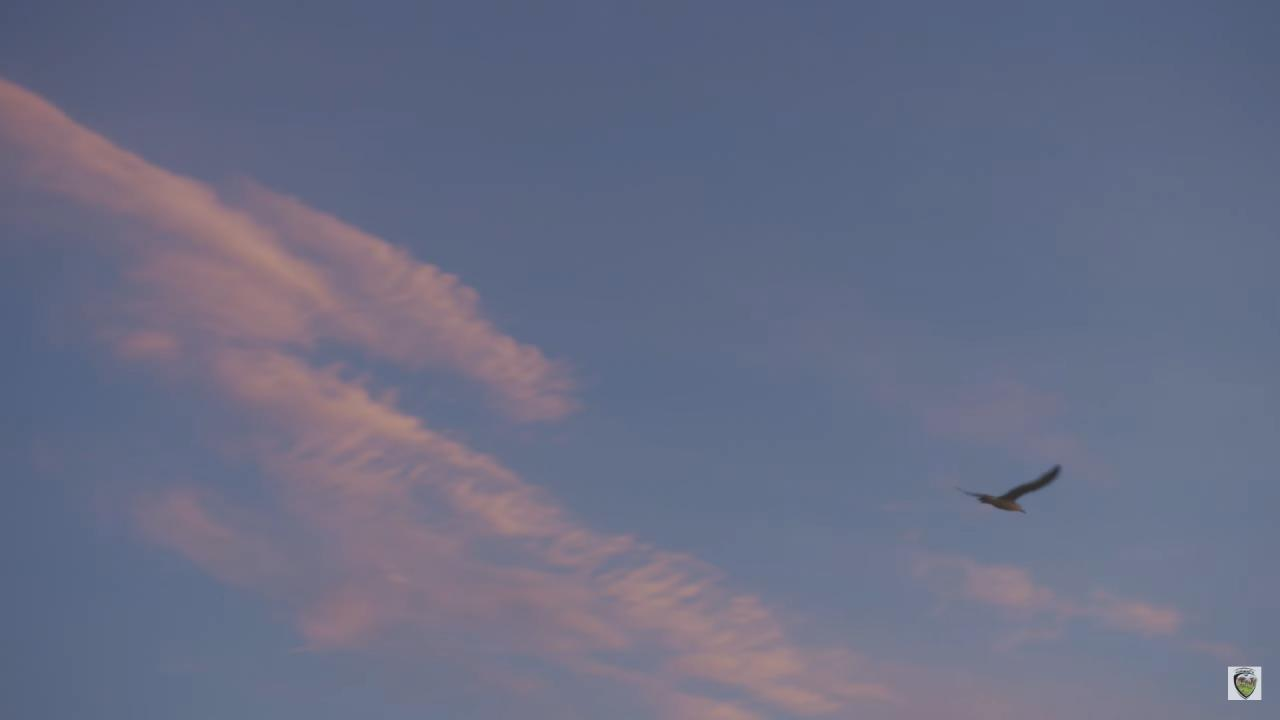Bird: (941, 451, 1071, 534)
